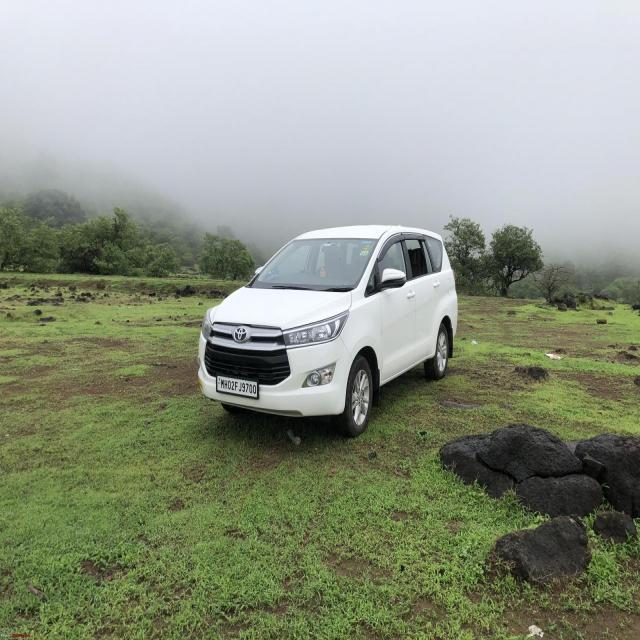light_vehicle: (197, 224, 459, 438)
